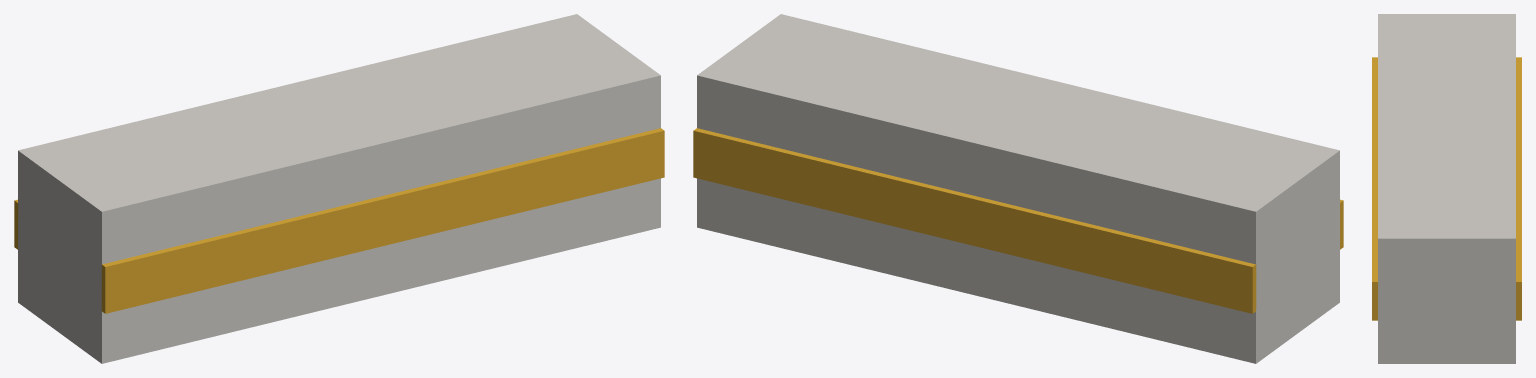
File: gate_beam.fbx
3 views of the same model, side by side, from view 1: azimuth 30°, elevation 25°; view 2: azimuth 150°, elevation 25°; view 3: azimuth 270°, elevation 25° (orthographic). The views are drawn at different scales.
Visible parts, largest first — view 1: gate_beam_Main; view 2: gate_beam_Main; view 3: gate_beam_Main.
Part boxes in pixels (box(x1,y1,x2,y2)): gate_beam_Main: box(14, 14, 664, 363); gate_beam_Main: box(693, 14, 1343, 363); gate_beam_Main: box(1372, 14, 1521, 363).
Bounding box in the file's own units: 1 × 0.26 × 0.282.
